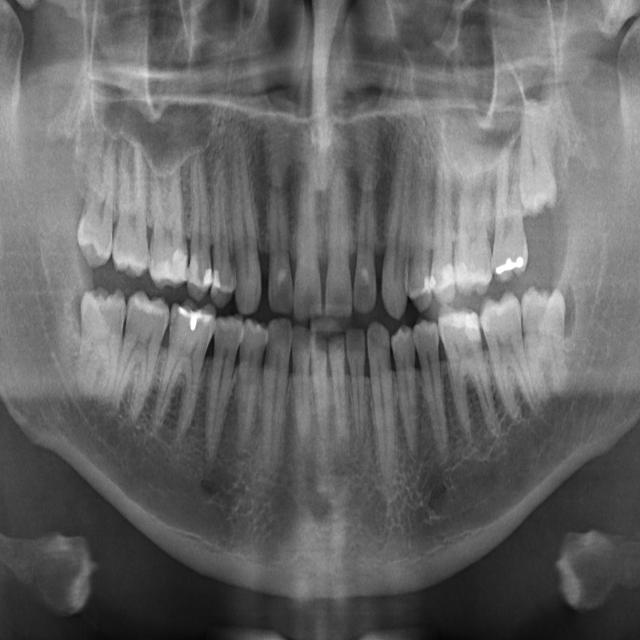AmalgamRestoration: (492, 253, 530, 277)
CompositeResinRestoration: (176, 305, 213, 338), (451, 310, 479, 342), (170, 250, 187, 285), (441, 264, 454, 300), (455, 263, 469, 295), (189, 251, 198, 287), (479, 311, 493, 334), (212, 270, 222, 295), (202, 263, 211, 288), (429, 274, 440, 292), (424, 277, 431, 295)
DentalCaries: (166, 314, 182, 348)
ImpactedTooth: (78, 284, 128, 393), (523, 278, 570, 388), (522, 109, 558, 226)
